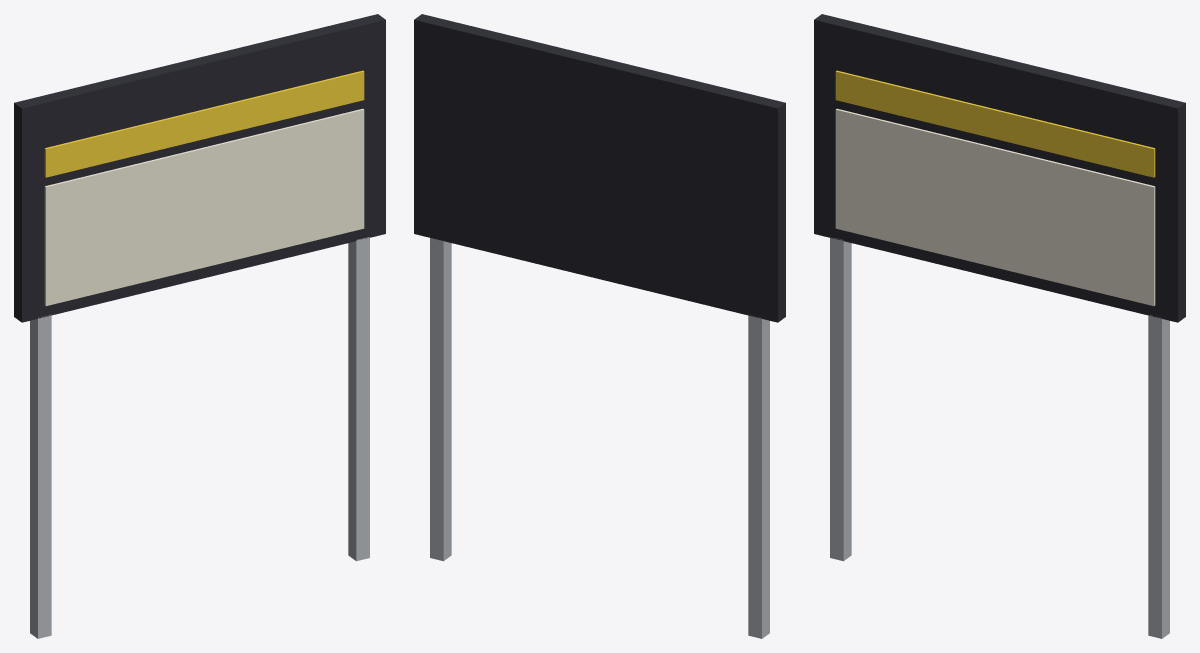
The model's file is menu_board.glb.
The picture shows the model from 3 angles, left to right: view 1: azimuth 30°, elevation 25°; view 2: azimuth 150°, elevation 25°; view 3: azimuth 330°, elevation 25°; orthographic projection.
Visible parts, largest first — view 1: menu_board; view 2: menu_board; view 3: menu_board.
Part boxes in pixels (x1,y1,x2,y2): menu_board: (14, 14, 385, 638); menu_board: (414, 14, 785, 638); menu_board: (814, 14, 1185, 638).
Size of the model in its own units: 1.6 by 2.24 by 0.07.
